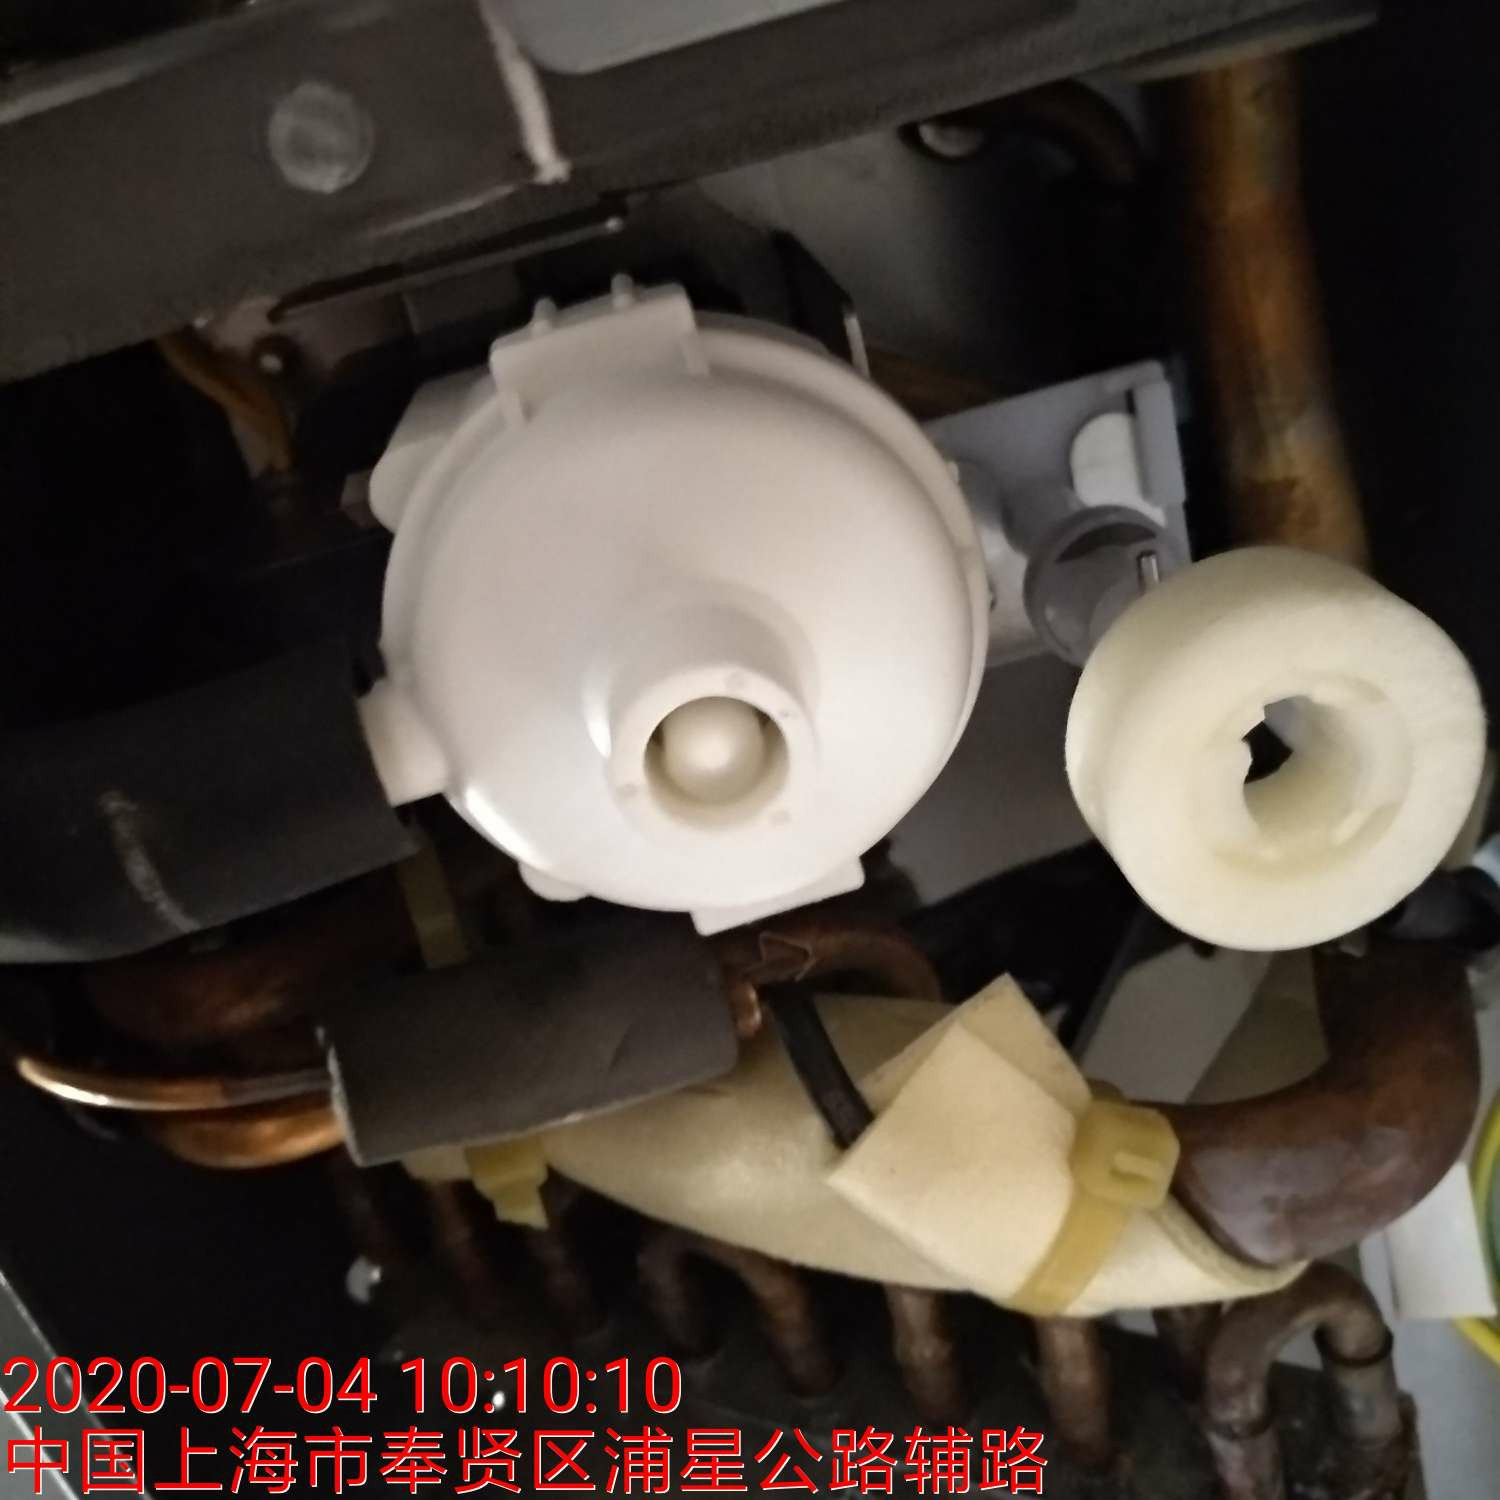motor: (354, 273, 993, 941)
